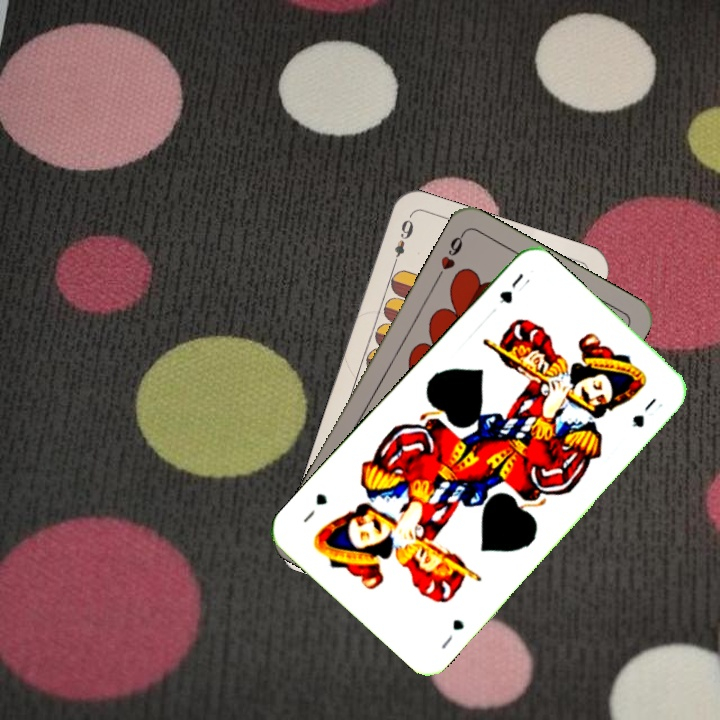E9: (388, 213, 416, 270)
GU: (495, 269, 527, 306), (437, 615, 467, 652)
H9: (432, 228, 467, 282)
